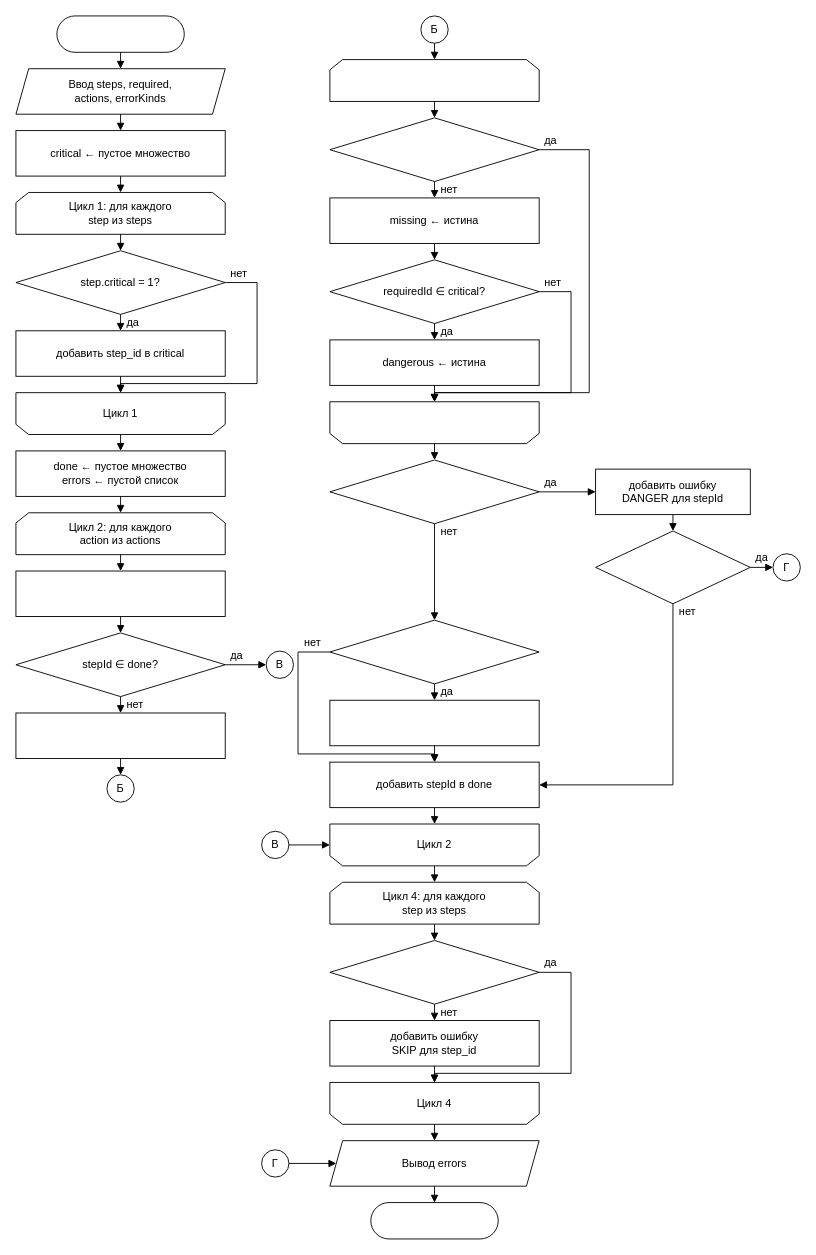
The diagram is 816 pixels wide and 1255 high, and some of its shapes have lost their labels. The shapes that lost their labels are listed below. From the top down, each one's centre as x and y in pixels, then its label:
At point 120,33: "Начало".
At point 434,80: "Цикл 3: для каждого requiredId из required[stepId]".
At point 434,149: "requiredId ∈ done?".
At point 434,422: "Цикл 3".
At point 434,491: "dangerous = истина?".
At point 672,567: "DANGER останавливает попытку?".
At point 120,593: "stepId ← action.step_id".
At point 434,651: "missing = истина?".
At point 120,735: "missing ← ложь dangerous ← ложь".
At point 434,722: "добавить ошибку ORDER для stepId".
At point 434,972: "step_id ∈ done?".
At point 434,1220: "Конец".
